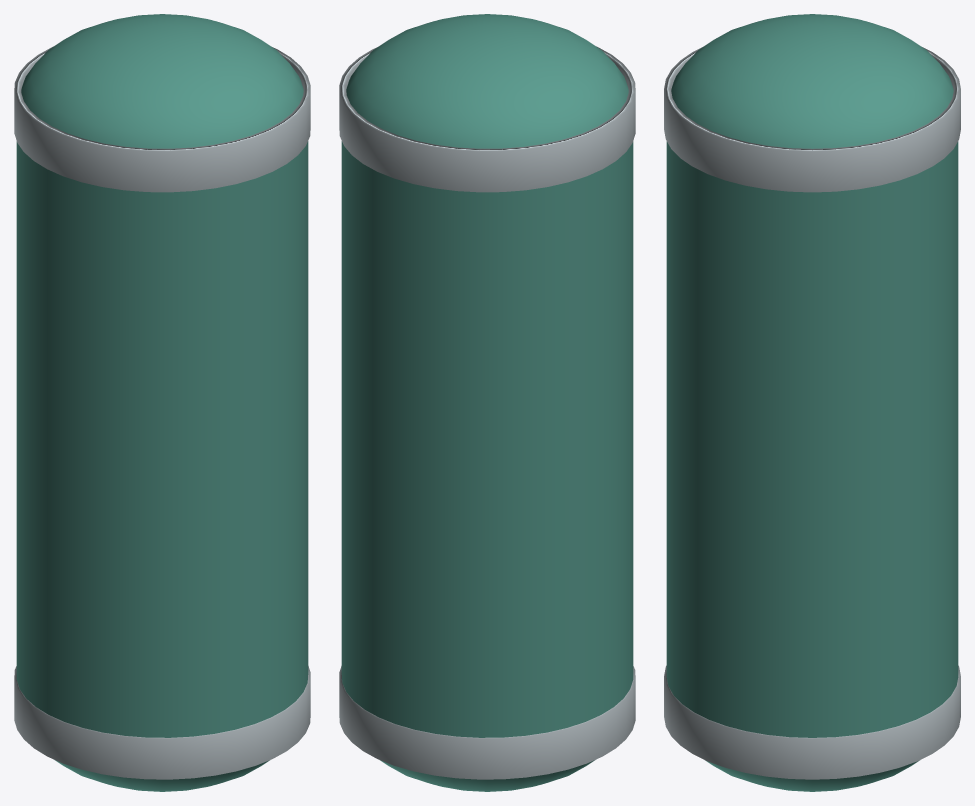
File: orion_esm_water_tank.glb
3 views of the same model, side by side, from view 1: azimuth 30°, elevation 25°; view 2: azimuth 150°, elevation 25°; view 3: azimuth 270°, elevation 25° (orthographic).
Visible parts, largest first — view 1: orion_esmcutawaywatermesh_Cutaway_water_tank, orion_esmcutawaywatermesh_Satin_aluminum; view 2: orion_esmcutawaywatermesh_Cutaway_water_tank, orion_esmcutawaywatermesh_Satin_aluminum; view 3: orion_esmcutawaywatermesh_Cutaway_water_tank, orion_esmcutawaywatermesh_Satin_aluminum.
Boxes of the visible parts, x1,y1,x2,y2 form: orion_esmcutawaywatermesh_Cutaway_water_tank: (16, 14, 308, 791); orion_esmcutawaywatermesh_Satin_aluminum: (14, 46, 310, 779); orion_esmcutawaywatermesh_Cutaway_water_tank: (341, 14, 633, 791); orion_esmcutawaywatermesh_Satin_aluminum: (339, 46, 635, 779); orion_esmcutawaywatermesh_Cutaway_water_tank: (666, 14, 958, 791); orion_esmcutawaywatermesh_Satin_aluminum: (664, 47, 960, 779).
Bounding box in the file's own units: 0.5288 × 1.44 × 0.5288.
